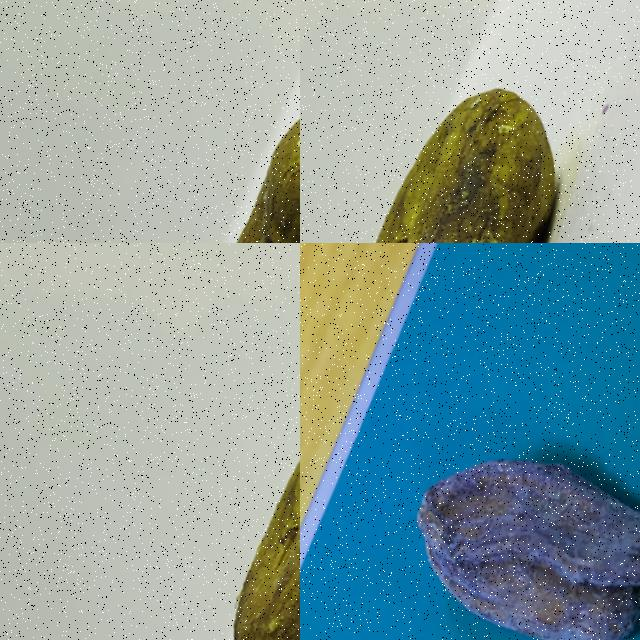Agglomerated_cocoabeans: (307, 275, 639, 639)
Fine_cocoabeans: (300, 23, 631, 242), (172, 311, 299, 639), (166, 22, 299, 242)
